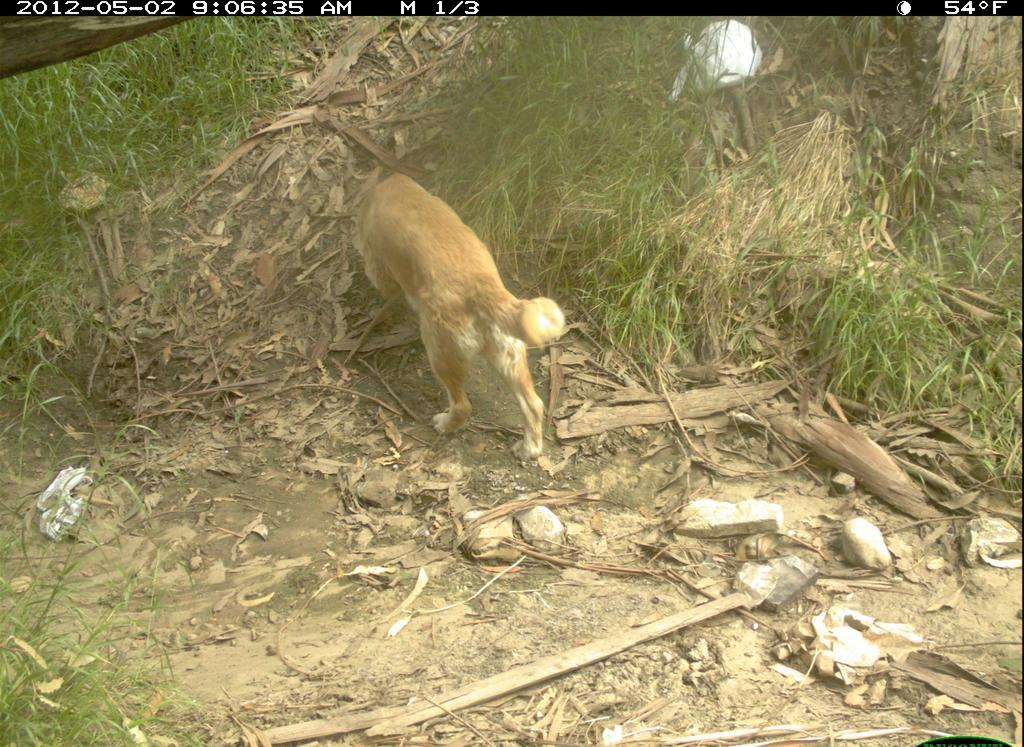dog: (341, 166, 562, 478)
